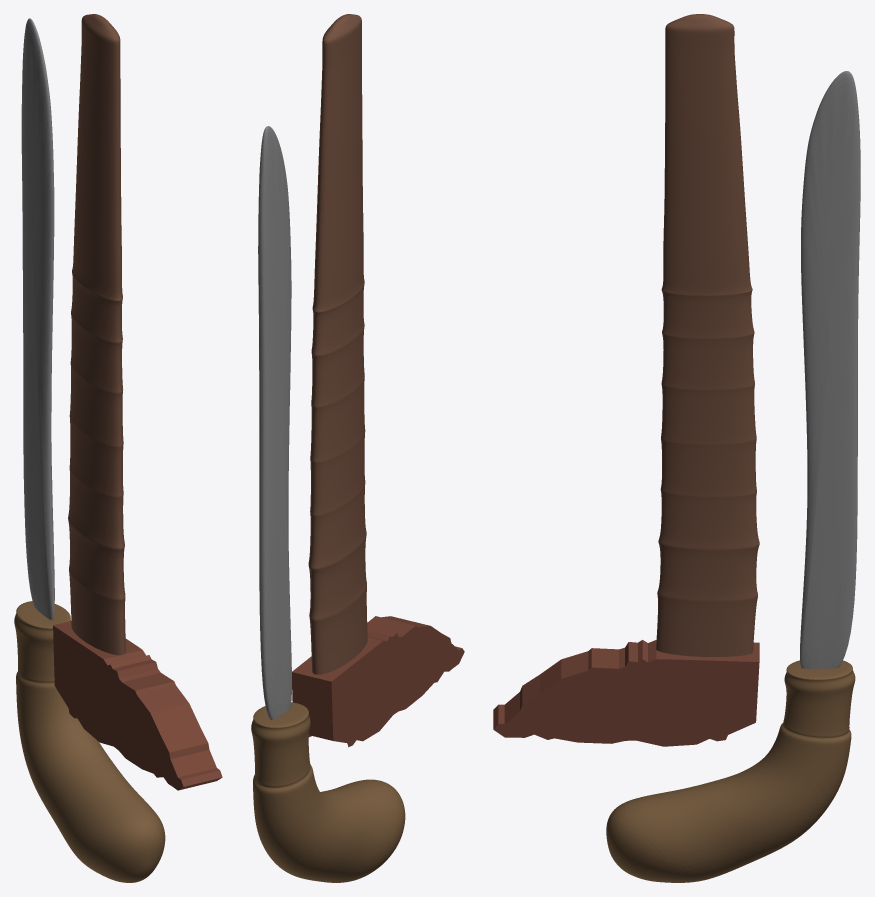
Rendered from badik-lampung.glb.
The picture shows the model from 3 angles, left to right: view 1: azimuth 30°, elevation 25°; view 2: azimuth 150°, elevation 25°; view 3: azimuth 270°, elevation 25°; orthographic projection. The views are drawn at different scales.
Visible parts, largest first — view 1: Cylinder.001_Material.002_0, Cylinder_Material.001_0, Plane_Material_0, Plane.001_Material.003_0; view 2: Cylinder.001_Material.002_0, Plane_Material_0, Cylinder_Material.001_0, Plane.001_Material.003_0; view 3: Cylinder.001_Material.002_0, Plane_Material_0, Cylinder_Material.001_0, Plane.001_Material.003_0.
Part boxes in pixels (x1=…): Cylinder.001_Material.002_0: x1=68, y1=14, x2=125, y2=655; Cylinder_Material.001_0: x1=14, y1=601, x2=165, y2=882; Plane_Material_0: x1=21, y1=18, x2=54, y2=620; Plane.001_Material.003_0: x1=53, y1=621, x2=222, y2=790; Cylinder.001_Material.002_0: x1=308, y1=14, x2=367, y2=674; Plane_Material_0: x1=258, y1=126, x2=291, y2=719; Cylinder_Material.001_0: x1=251, y1=702, x2=405, y2=882; Plane.001_Material.003_0: x1=292, y1=616, x2=464, y2=747; Cylinder.001_Material.002_0: x1=656, y1=14, x2=759, y2=656; Plane_Material_0: x1=800, y1=71, x2=860, y2=668; Cylinder_Material.001_0: x1=606, y1=660, x2=855, y2=882; Plane.001_Material.003_0: x1=493, y1=640, x2=759, y2=746.
Size of the model in its own units: 0.4133 by 4.53 by 1.75.
